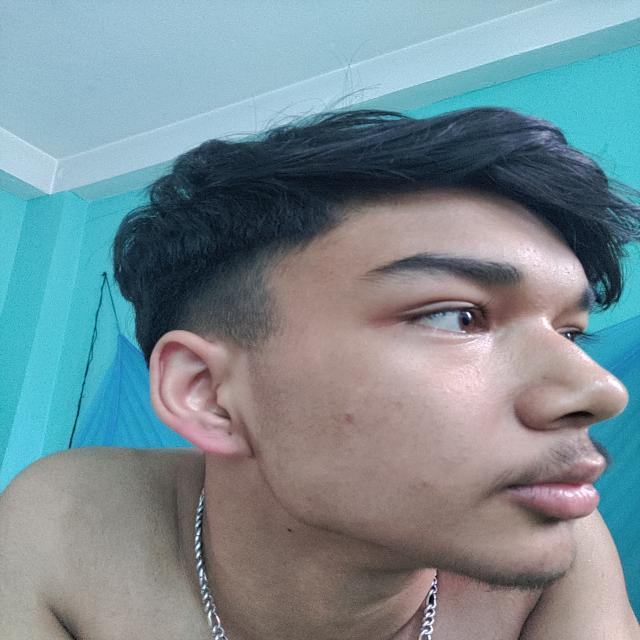Acne: (326, 392, 379, 438), (404, 476, 464, 506)
